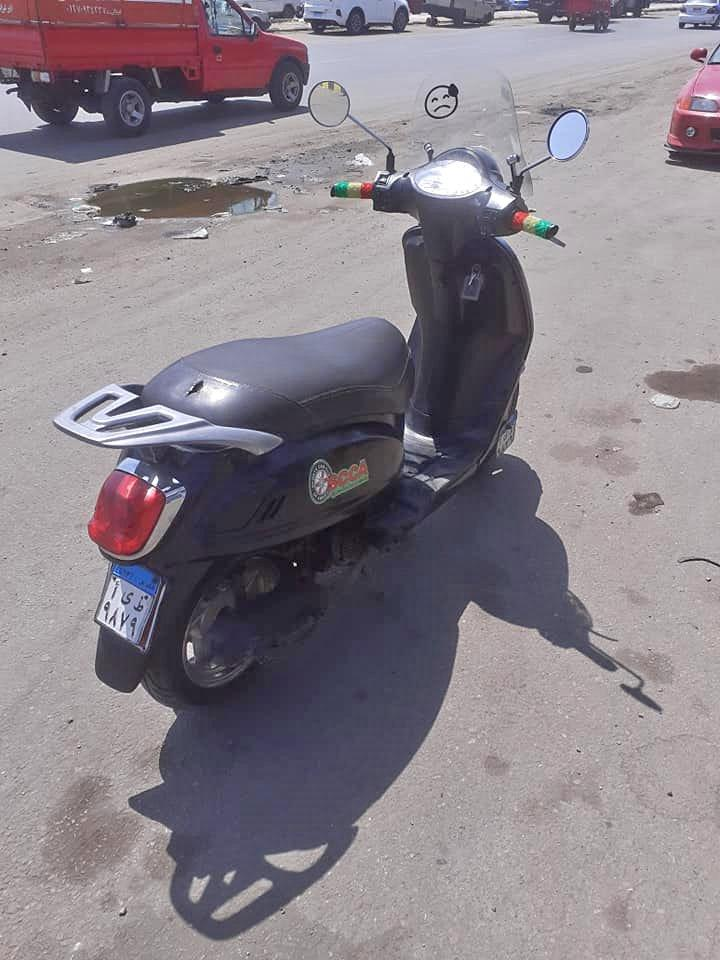License Plate: (98, 560, 164, 652)
